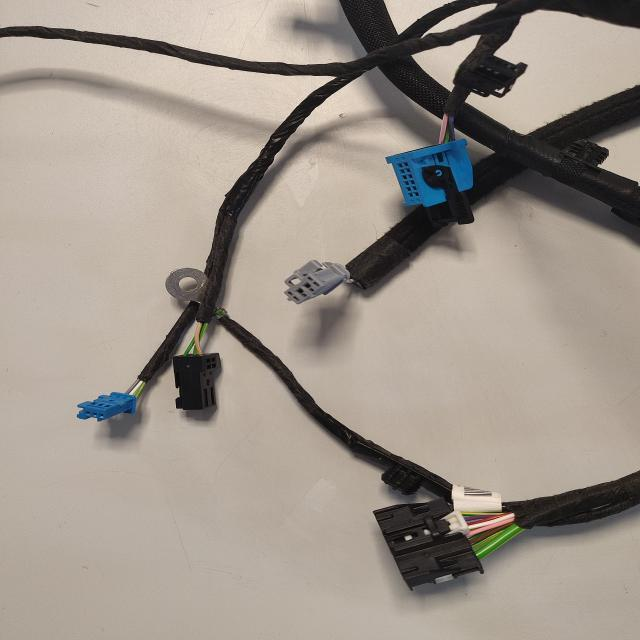cable: (161, 48, 357, 328), (0, 0, 639, 83), (200, 313, 457, 519), (422, 6, 519, 146), (343, 190, 456, 294), (130, 297, 203, 398), (377, 45, 457, 122), (383, 52, 453, 118), (454, 141, 525, 205), (612, 207, 640, 226)
connector: (374, 490, 483, 592), (385, 135, 484, 237), (277, 246, 351, 313), (73, 386, 140, 427), (173, 354, 220, 411)
